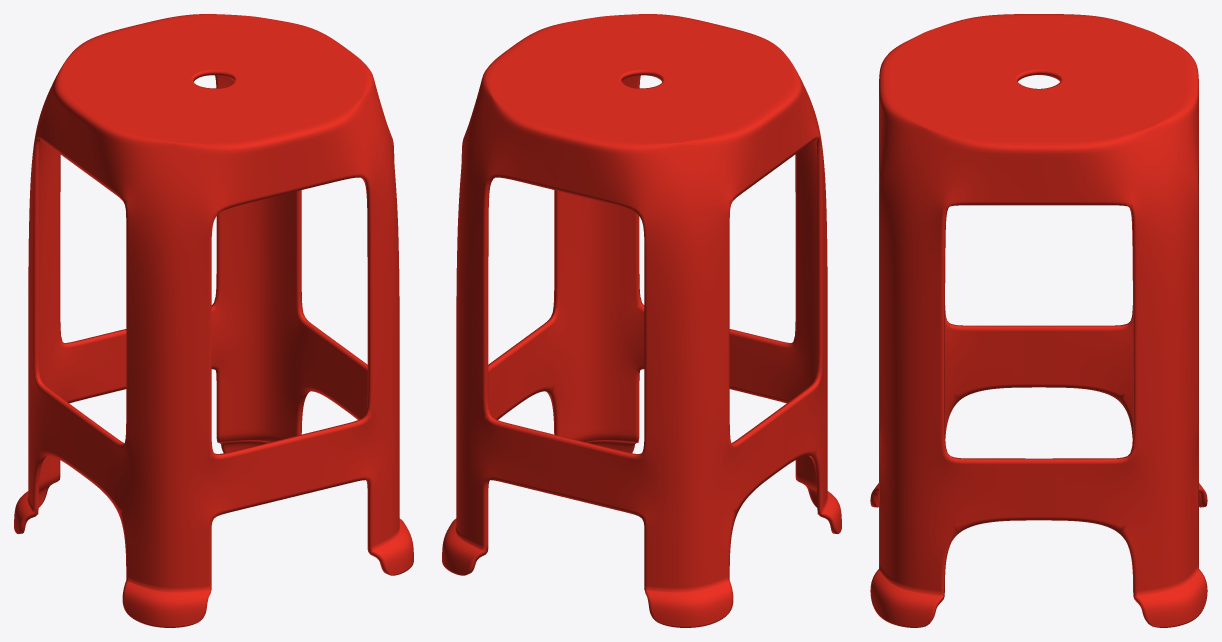
File: redchair.glb
The picture shows the model from 3 angles, left to right: view 1: azimuth 30°, elevation 25°; view 2: azimuth 150°, elevation 25°; view 3: azimuth 270°, elevation 25°; orthographic projection. The views are drawn at different scales.
Parts seen in each view (by area): view 1: redchair; view 2: redchair; view 3: redchair.
Boxes of the visible parts, x1,y1,x2,y2 form: redchair: (14, 14, 413, 627); redchair: (442, 14, 841, 627); redchair: (870, 14, 1207, 627).
Bounding box in the file's own units: 1.96 × 3.06 × 1.95.
